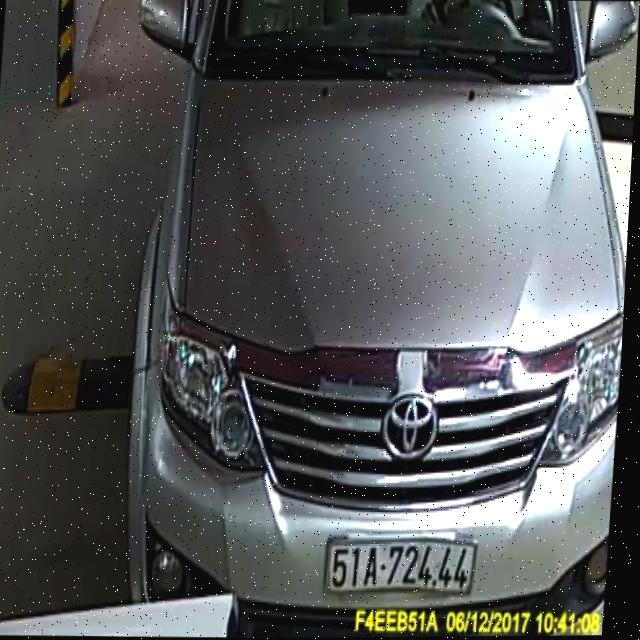car: (87, 0, 640, 611)
plate: (315, 528, 483, 601)
